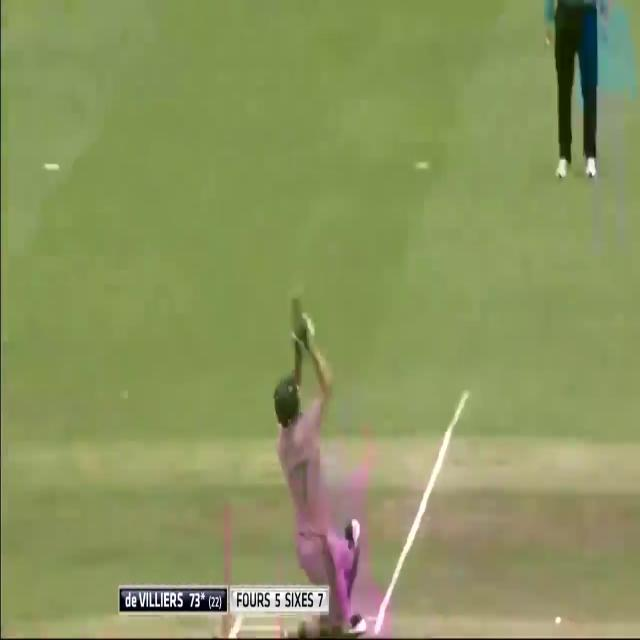Ball: (257, 358, 379, 638)
Umpire: (550, 1, 599, 178)
